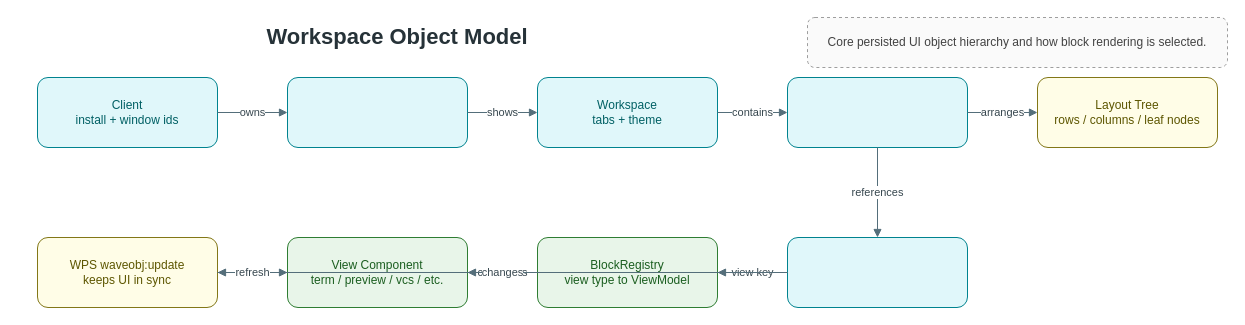
This 1245x325 diagram has some shape labels left out. Each missing label, with the centre of its shape:
Block metadata + view type: [877,272]
Tab layout + block ids: [877,112]
Window active workspace: [377,112]
